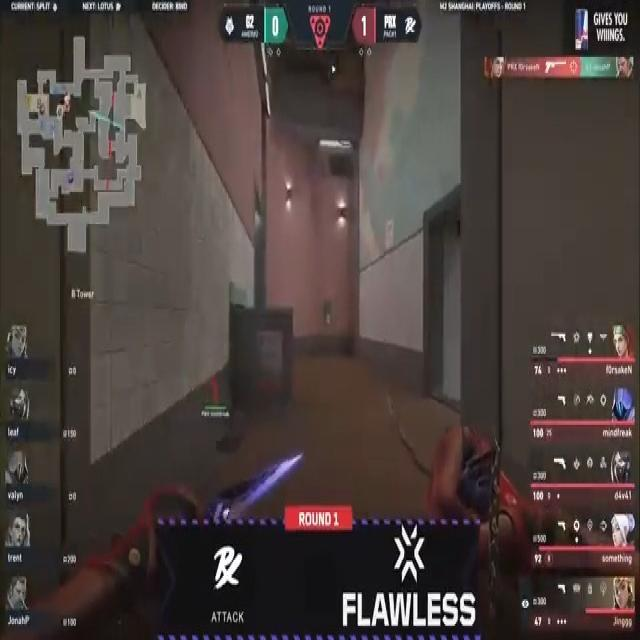enemy behind wall: (208, 371, 222, 405)
